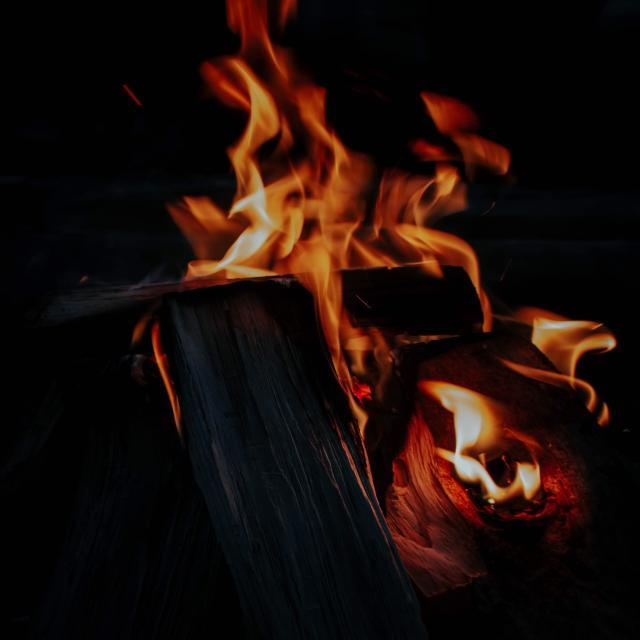Fire: (130, 1, 619, 504)
